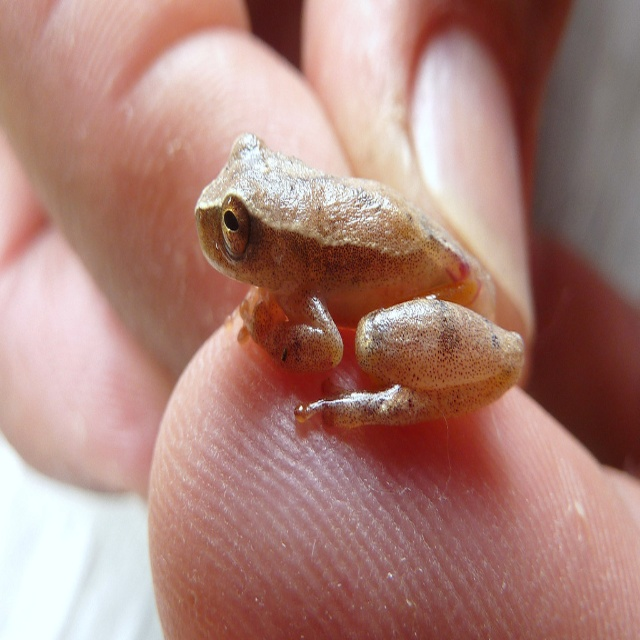Frog: (194, 130, 527, 426)
